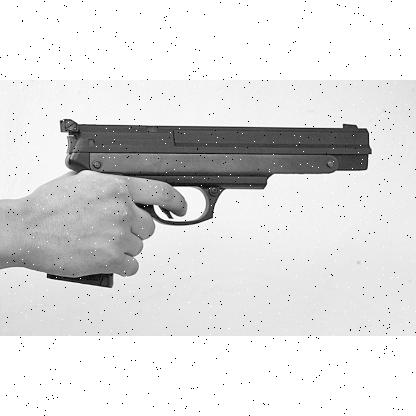gun: (47, 118, 372, 288)
